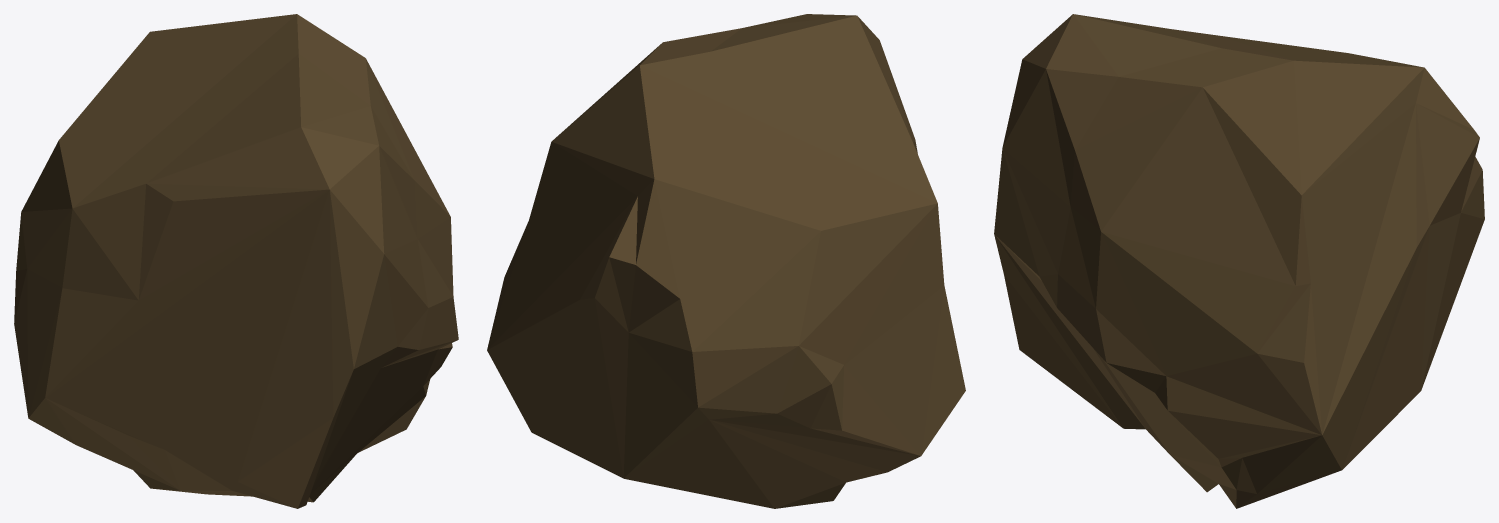
Rendered from rock.fbx.
The picture shows the model from 3 angles, left to right: view 1: azimuth 30°, elevation 25°; view 2: azimuth 150°, elevation 25°; view 3: azimuth 270°, elevation 25°; orthographic projection.
Visible parts, largest first — view 1: rock_01; view 2: rock_01; view 3: rock_01.
Boxes of the visible parts, x1=… form: rock_01: x1=14, y1=14, x2=458, y2=508; rock_01: x1=487, y1=14, x2=965, y2=508; rock_01: x1=994, y1=14, x2=1484, y2=508.
Size of the model in its own units: 125 by 125 by 125.
